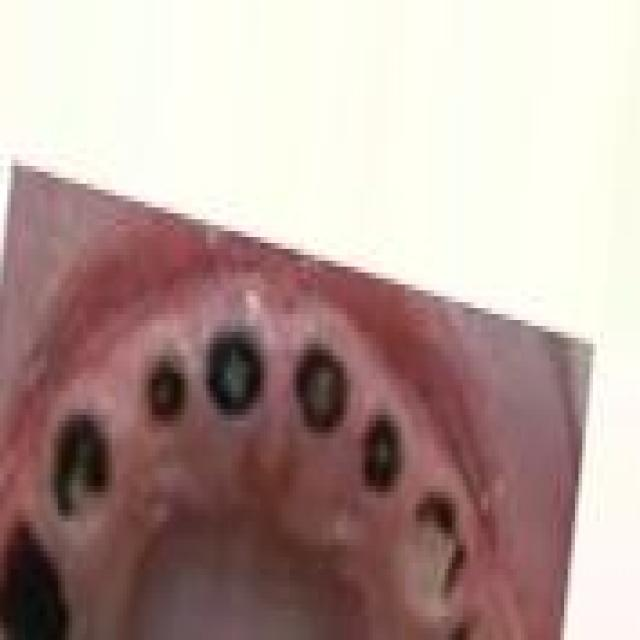caries: (40, 387, 126, 528), (0, 503, 79, 640), (200, 315, 276, 439), (282, 328, 360, 445), (417, 488, 477, 610), (353, 399, 408, 506), (139, 341, 196, 442)
